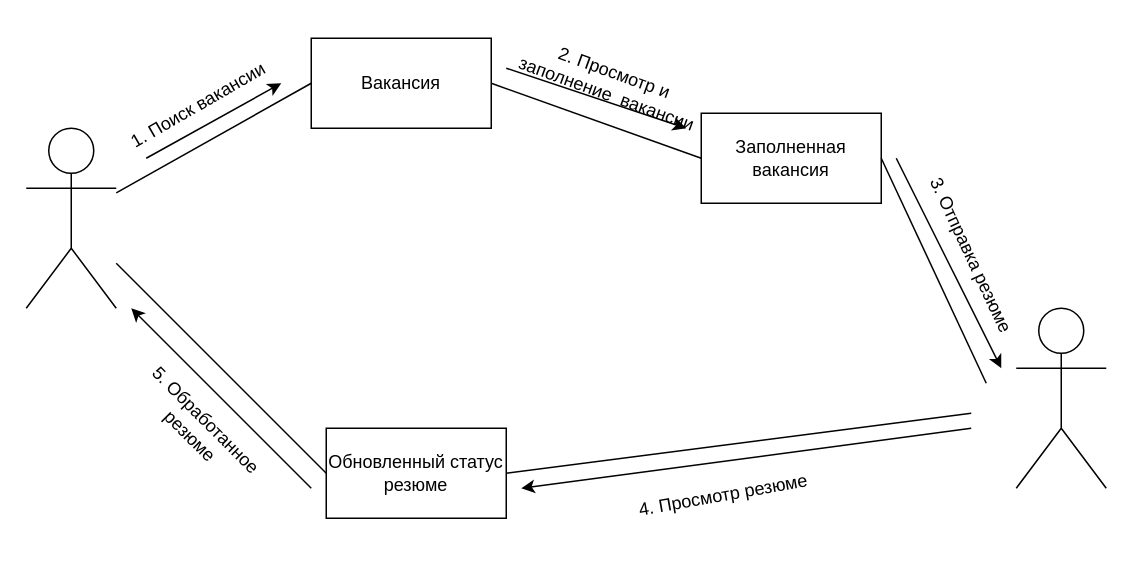
Some shapes in this 1148 by 573 pixel diagram are drawn without their labels. Each missing label, with the centre of its shape:
"Работадатель" belongs at pixel 1060 397.
"Работник" belongs at pixel 70 217.
